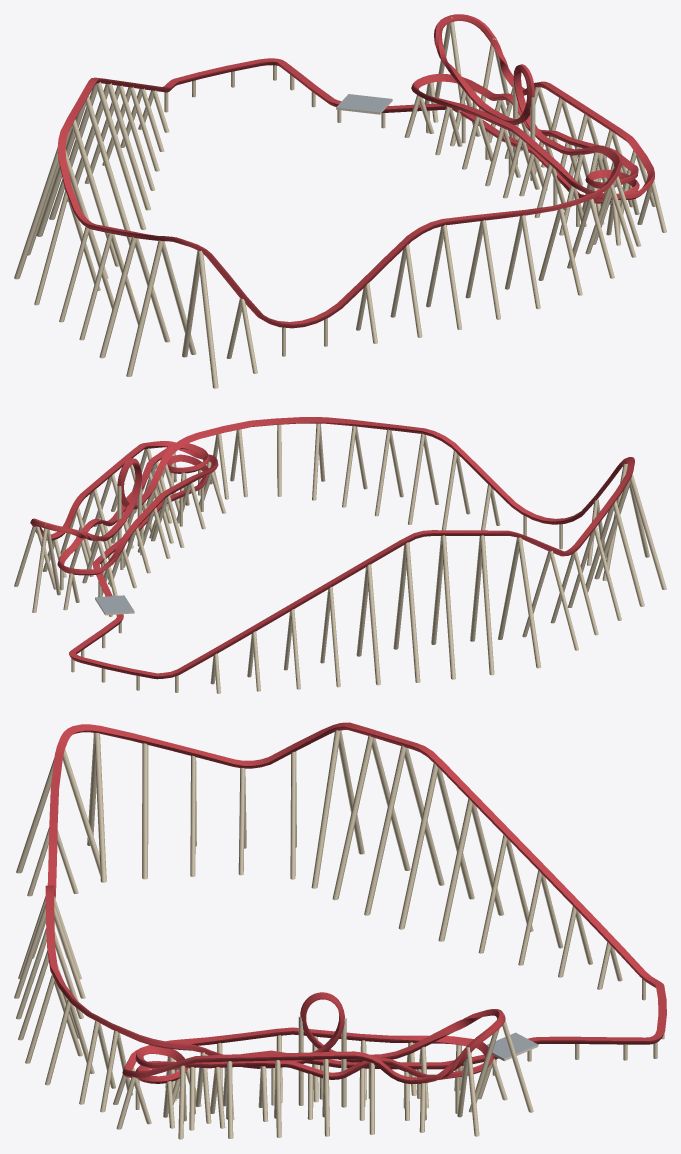
Rendered from detail.glb.
3 views of the same model, one above another, from view 1: azimuth 30°, elevation 25°; view 2: azimuth 150°, elevation 25°; view 3: azimuth 270°, elevation 25° (orthographic). The views are drawn at different scales.
Visible parts, largest first — view 1: the-big-apple-coaster; view 2: the-big-apple-coaster; view 3: the-big-apple-coaster.
Boxes of the visible parts, x1,y1,x2,y2 form: the-big-apple-coaster: (14, 14, 666, 388); the-big-apple-coaster: (14, 417, 666, 693); the-big-apple-coaster: (14, 722, 666, 1139).
Size of the model in its own units: 246 by 61.96 by 230.
